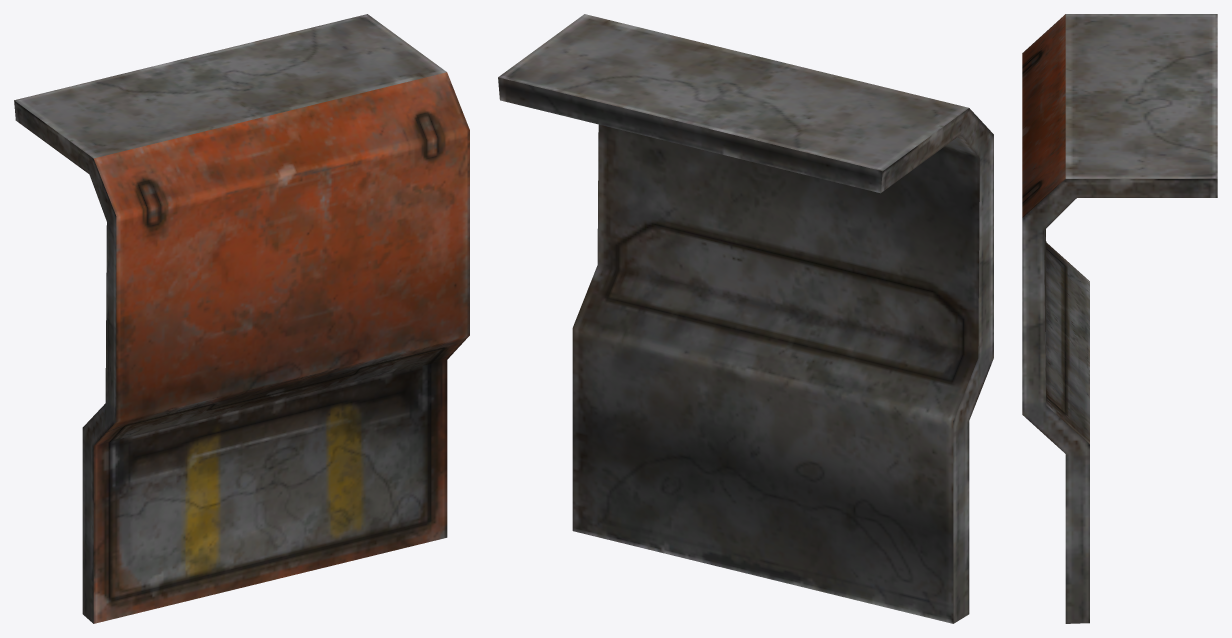
File: tau_airlock_flap.dae
3 views of the same model, side by side, from view 1: azimuth 30°, elevation 25°; view 2: azimuth 150°, elevation 25°; view 3: azimuth 270°, elevation 25° (orthographic). The views are drawn at different scales.
Visible parts, largest first — view 1: Mesh; view 2: Mesh; view 3: Mesh.
Part boxes in pixels (x1,y1,x2,y2): Mesh: [14, 14, 469, 623]; Mesh: [498, 14, 993, 623]; Mesh: [1022, 14, 1217, 623].
Size of the model in its own units: 1.51 by 1.9 by 0.7553.
